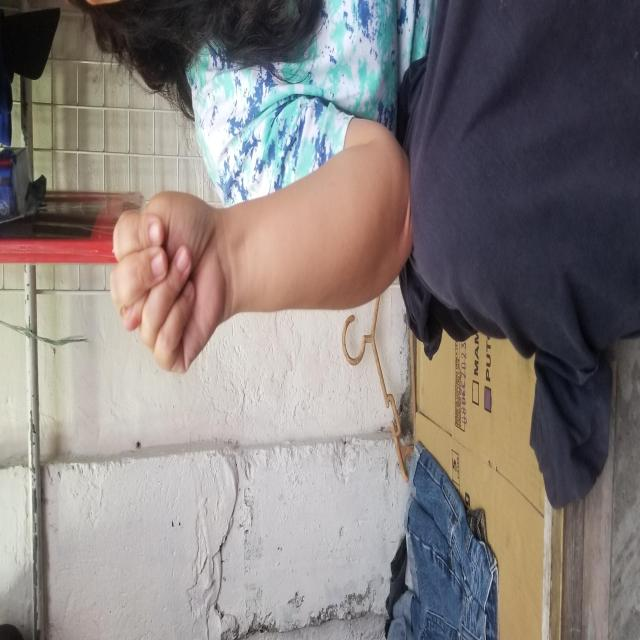N: (84, 161, 270, 415)
